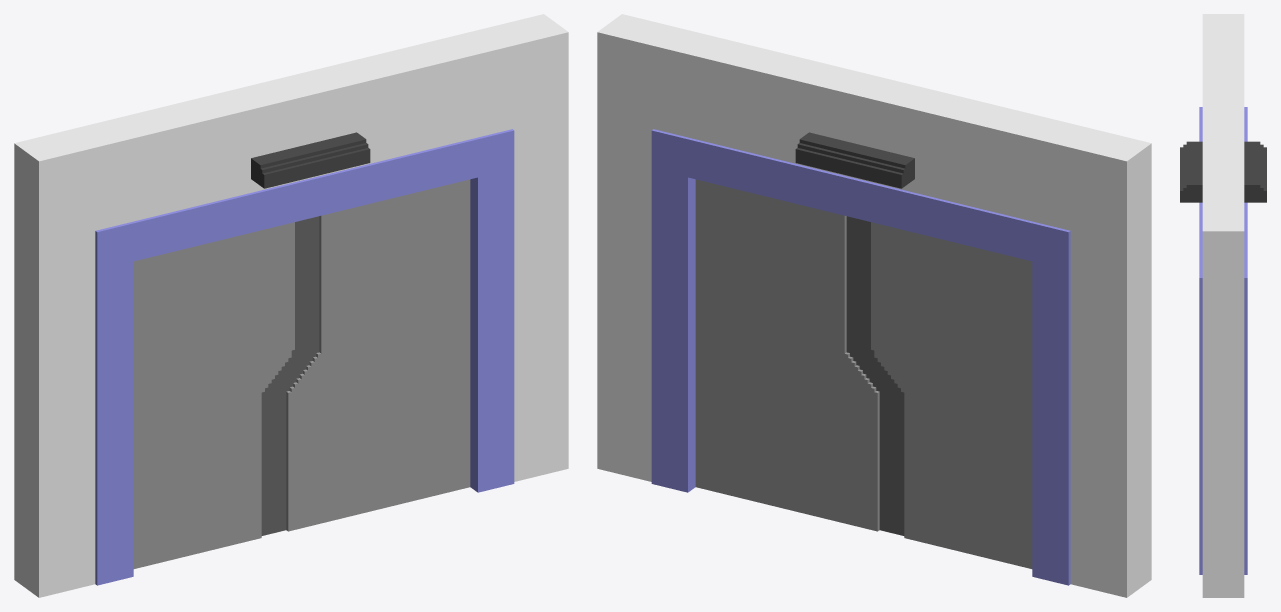
File: Operating_room_Door3-4.fbx
The picture shows the model from 3 angles, left to right: view 1: azimuth 30°, elevation 25°; view 2: azimuth 150°, elevation 25°; view 3: azimuth 270°, elevation 25°; orthographic projection. The views are drawn at different scales.
Visible parts, largest first — view 1: Operating room Door3-4.002, Operating room Door3-4.004, Operating room Door3-4.001, Operating room Door3-4.003, Operating room Door3-4; view 2: Operating room Door3-4.002, Operating room Door3-4.004, Operating room Door3-4.001, Operating room Door3-4.003, Operating room Door3-4; view 3: Operating room Door3-4, Operating room Door3-4.002, Operating room Door3-4.003.
Boxes of the visible parts, left/top/right/bottom form: Operating room Door3-4.002: left=71, top=28, right=514, bottom=585; Operating room Door3-4.004: left=273, top=179, right=470, bottom=533; Operating room Door3-4.001: left=133, top=219, right=306, bottom=568; Operating room Door3-4.003: left=14, top=129, right=95, bottom=597; Operating room Door3-4: left=488, top=14, right=568, bottom=481; Operating room Door3-4.002: left=651, top=28, right=1094, bottom=585; Operating room Door3-4.004: left=695, top=179, right=892, bottom=533; Operating room Door3-4.001: left=859, top=219, right=1032, bottom=568; Operating room Door3-4.003: left=1070, top=129, right=1151, bottom=597; Operating room Door3-4: left=597, top=14, right=677, bottom=481; Operating room Door3-4: left=1202, top=208, right=1244, bottom=597; Operating room Door3-4.002: left=1180, top=37, right=1266, bottom=574; Operating room Door3-4.003: left=1202, top=14, right=1244, bottom=36.
Size of the model in its own units: 1600 by 1260 by 270.
